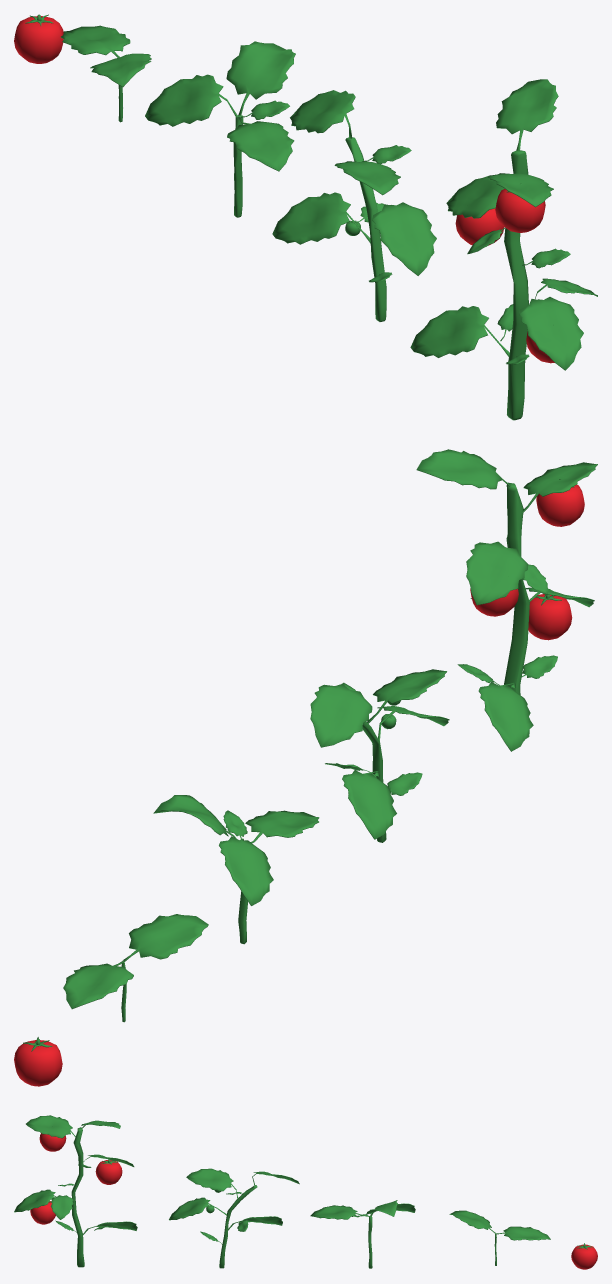
Rendered from tomato.fbx.
3 views of the same model, one above another, from view 1: azimuth 30°, elevation 25°; view 2: azimuth 150°, elevation 25°; view 3: azimuth 270°, elevation 25° (orthographic). The views are drawn at different scales.
Visible parts, largest first — view 1: Stage 4, Stage 3, Stage 2, Stage 1, Fruit; view 2: Stage 4, Stage 3, Stage 2, Stage 1, Fruit; view 3: Stage 4, Stage 3, Stage 2, Stage 1, Fruit.
Boxes of the visible parts, x1,y1,x2,y2 form: Stage 4: (410,79,597,420); Stage 3: (272,90,436,321); Stage 2: (145,41,295,217); Stage 1: (61,25,151,122); Fruit: (14,14,63,63); Stage 4: (416,449,597,751); Stage 3: (310,669,449,842); Stage 2: (153,795,319,944); Stage 1: (63,914,208,1022); Fruit: (14,1037,62,1086); Stage 4: (14,1115,137,1267); Stage 3: (169,1168,299,1268); Stage 2: (310,1200,415,1268); Stage 1: (449,1210,550,1265); Fruit: (571,1243,597,1269).
Size of the model in its own units: 24.3 by 55.78 by 186.
